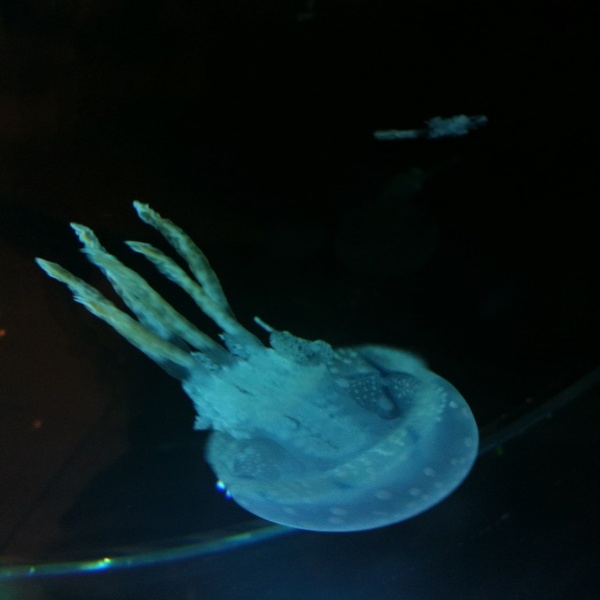Jellyfish: (33, 196, 479, 532)
